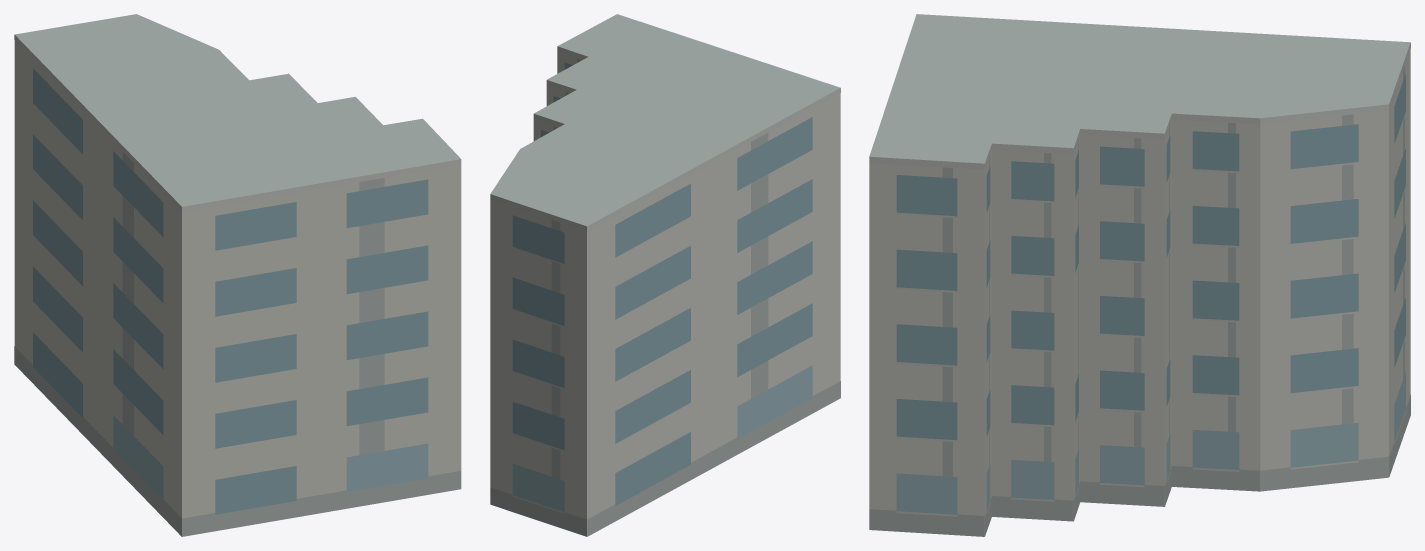
Rendered from survey-upis-32646796.glb.
3 views of the same model, side by side, from view 1: azimuth 30°, elevation 25°; view 2: azimuth 150°, elevation 25°; view 3: azimuth 270°, elevation 25° (orthographic). The views are drawn at different scales.
Visible parts, largest first — view 1: survey-upis-32646796.tmp; view 2: survey-upis-32646796.tmp; view 3: survey-upis-32646796.tmp.
Boxes of the visible parts, x1=… form: survey-upis-32646796.tmp: x1=14, y1=14, x2=461, y2=536; survey-upis-32646796.tmp: x1=490, y1=14, x2=840, y2=536; survey-upis-32646796.tmp: x1=869, y1=14, x2=1410, y2=536.
Size of the model in its own units: 12.48 by 14.5 by 19.07.
